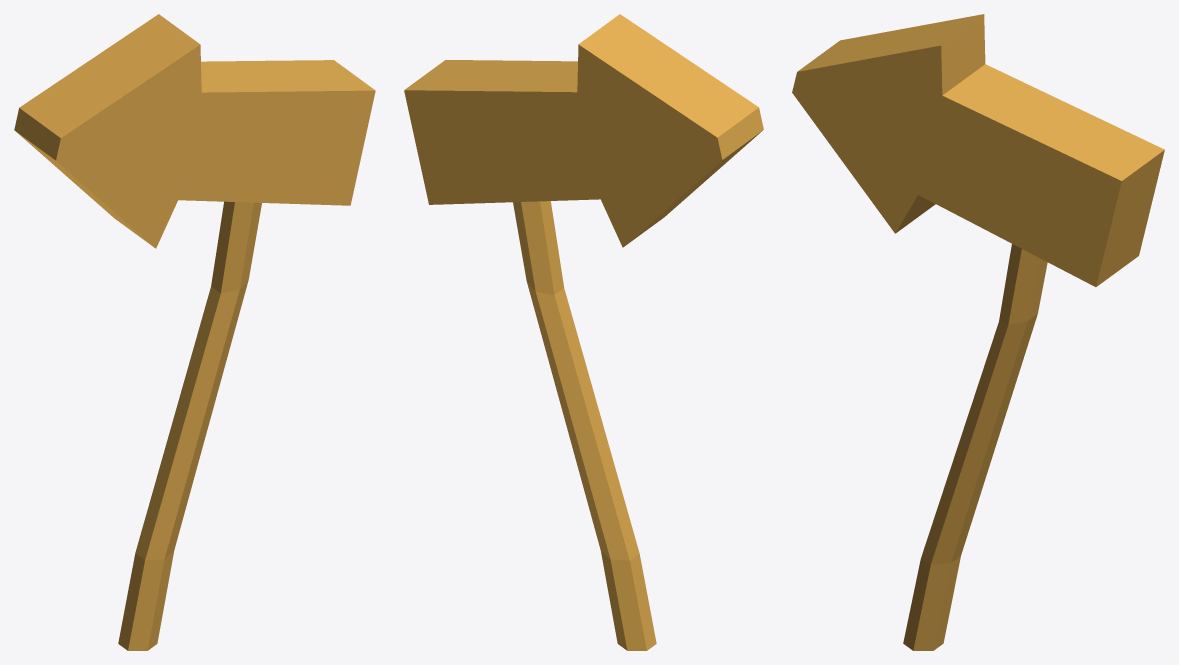
The model's file is Pointer.fbx.
3 views of the same model, side by side, from view 1: azimuth 30°, elevation 25°; view 2: azimuth 150°, elevation 25°; view 3: azimuth 330°, elevation 25° (orthographic). The views are drawn at different scales.
Visible parts, largest first — view 1: Plane; view 2: Plane; view 3: Plane.
Part boxes in pixels (bbox=[...]): Plane: bbox=[14, 14, 375, 650]; Plane: bbox=[404, 14, 763, 650]; Plane: bbox=[792, 14, 1164, 650].
Size of the model in its own units: 1087 by 1969 by 246.
